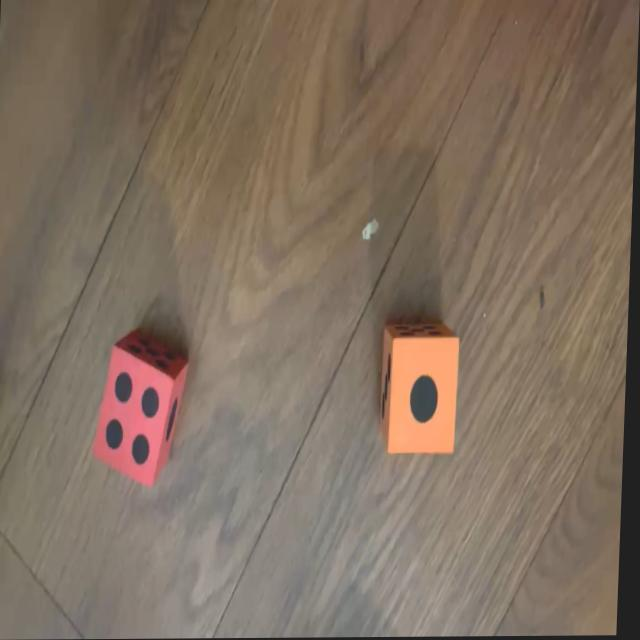red_block: (95, 333, 193, 488)
